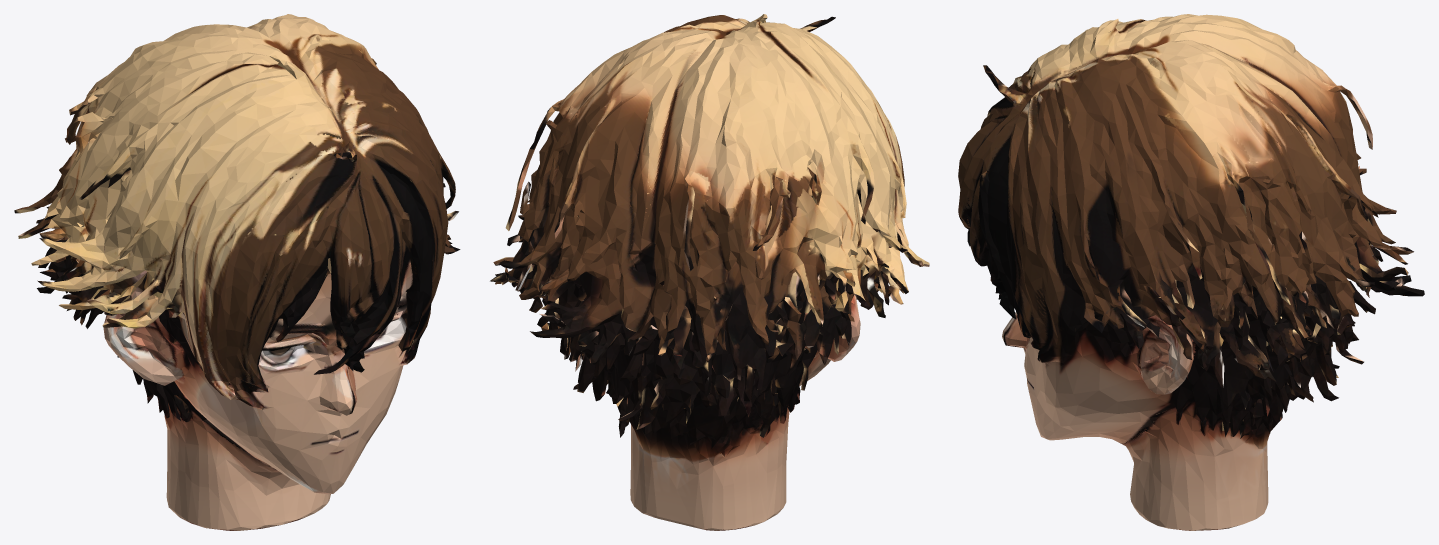
File: side_servant_repaired_atlas.glb
The picture shows the model from 3 angles, left to right: view 1: azimuth 30°, elevation 25°; view 2: azimuth 150°, elevation 25°; view 3: azimuth 270°, elevation 25°; orthographic projection. The views are drawn at different scales.
Parts seen in each view (by area): view 1: temp_mesh.ply; view 2: temp_mesh.ply; view 3: temp_mesh.ply.
Part boxes in pixels (x1,y1,x2,y2): temp_mesh.ply: [14, 14, 460, 530]; temp_mesh.ply: [490, 14, 929, 530]; temp_mesh.ply: [958, 14, 1424, 530].
Size of the model in its own units: 1.06 by 1.2 by 1.08.
Materials: 1 (1 with a texture image).
